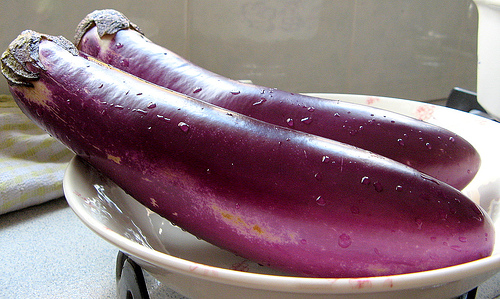eggplant: (3, 22, 496, 278), (67, 3, 480, 191)
